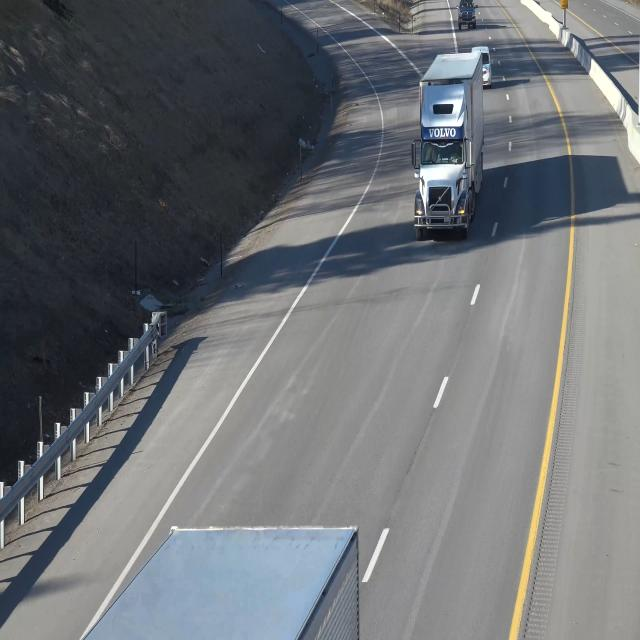Car: (412, 47, 482, 240), (456, 0, 481, 31)
